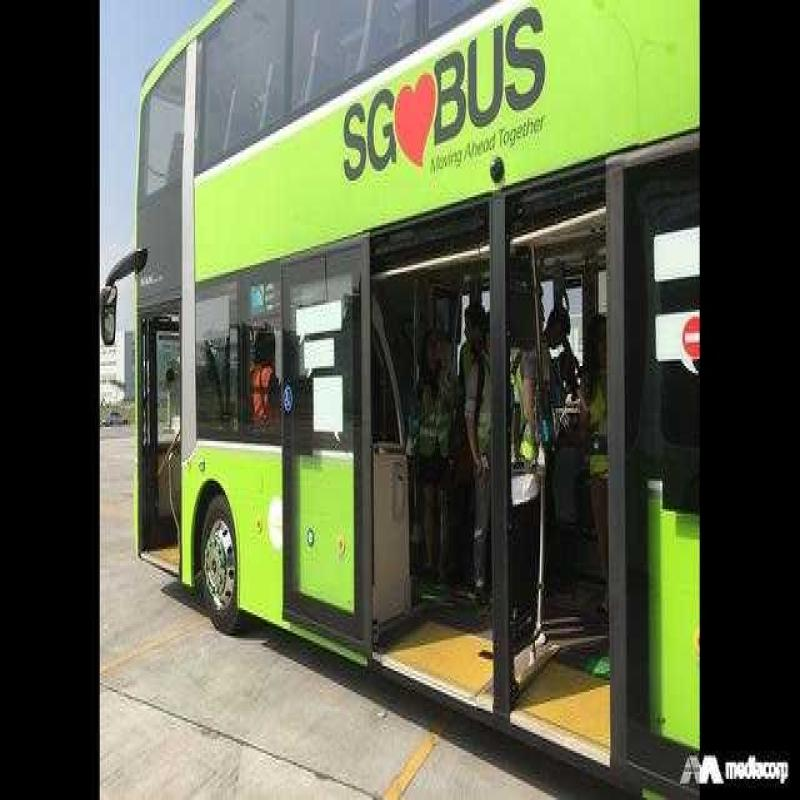bus: (128, 26, 707, 756)
